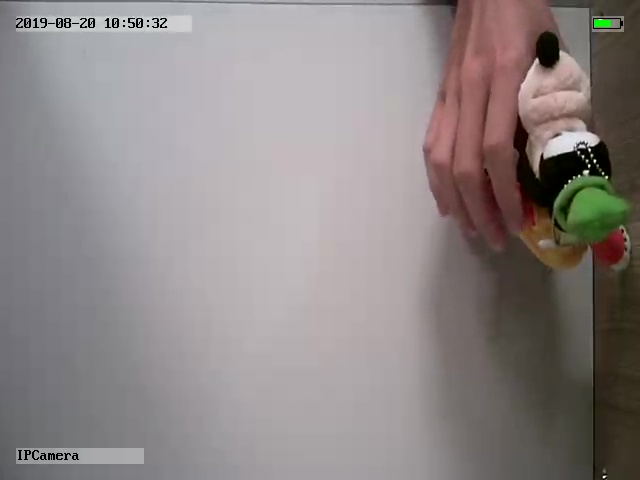goofy: (512, 32, 632, 275)
